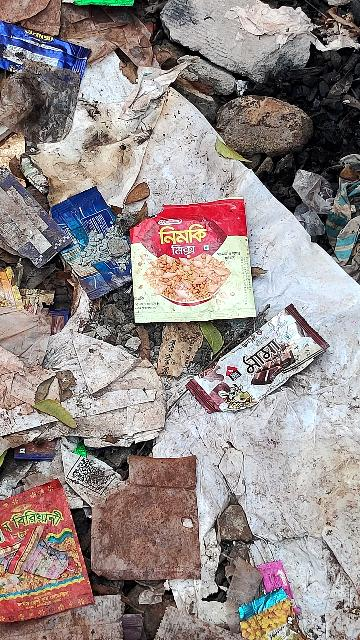packet: (186, 297, 332, 433), (133, 198, 252, 323), (0, 484, 96, 622), (41, 186, 142, 302), (210, 555, 300, 640), (0, 13, 95, 88)
